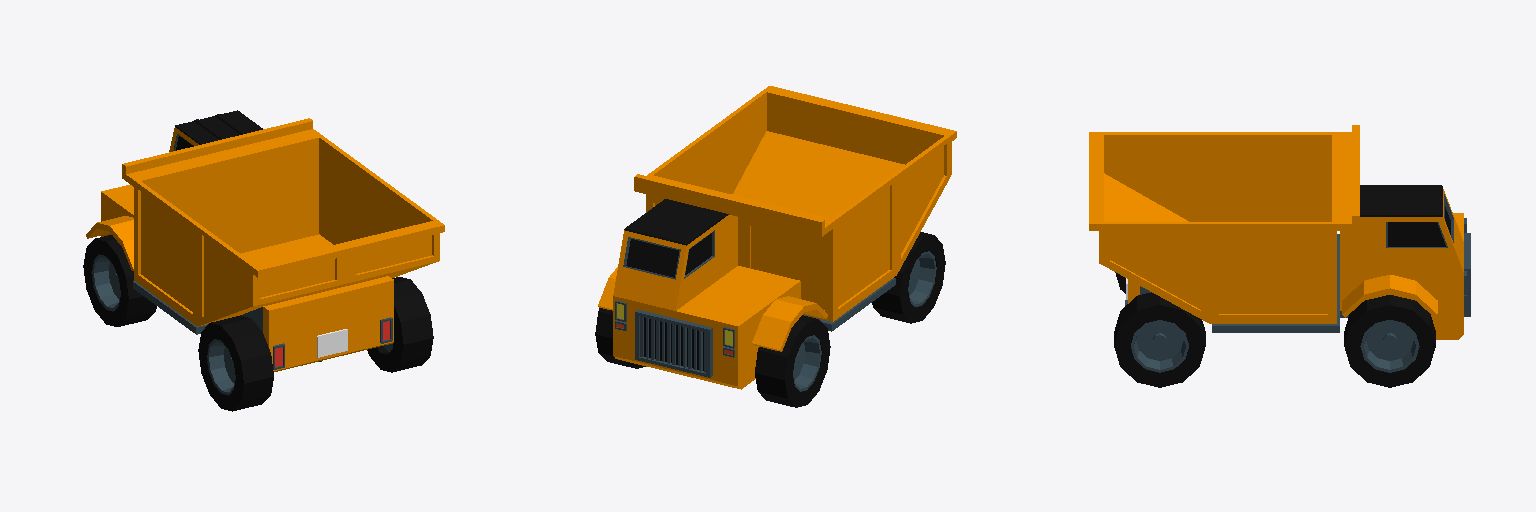
The model's file is Dump_Truck.obj.
3 renders of one model, left to right at view 1: azimuth 30°, elevation 25°; view 2: azimuth 150°, elevation 25°; view 3: azimuth 270°, elevation 25°, orthographic.
Visible parts, largest first — view 1: Dump_Truck_01:Dumptruck_01_Cube; view 2: Dump_Truck_01:Dumptruck_01_Cube; view 3: Dump_Truck_01:Dumptruck_01_Cube.
Part boxes in pixels (x1,y1,x2,y2): Dump_Truck_01:Dumptruck_01_Cube: (83, 110, 444, 411); Dump_Truck_01:Dumptruck_01_Cube: (595, 86, 956, 407); Dump_Truck_01:Dumptruck_01_Cube: (1089, 125, 1470, 387).
Bounding box in the file's own units: 6.02 × 5.2 × 10.48.